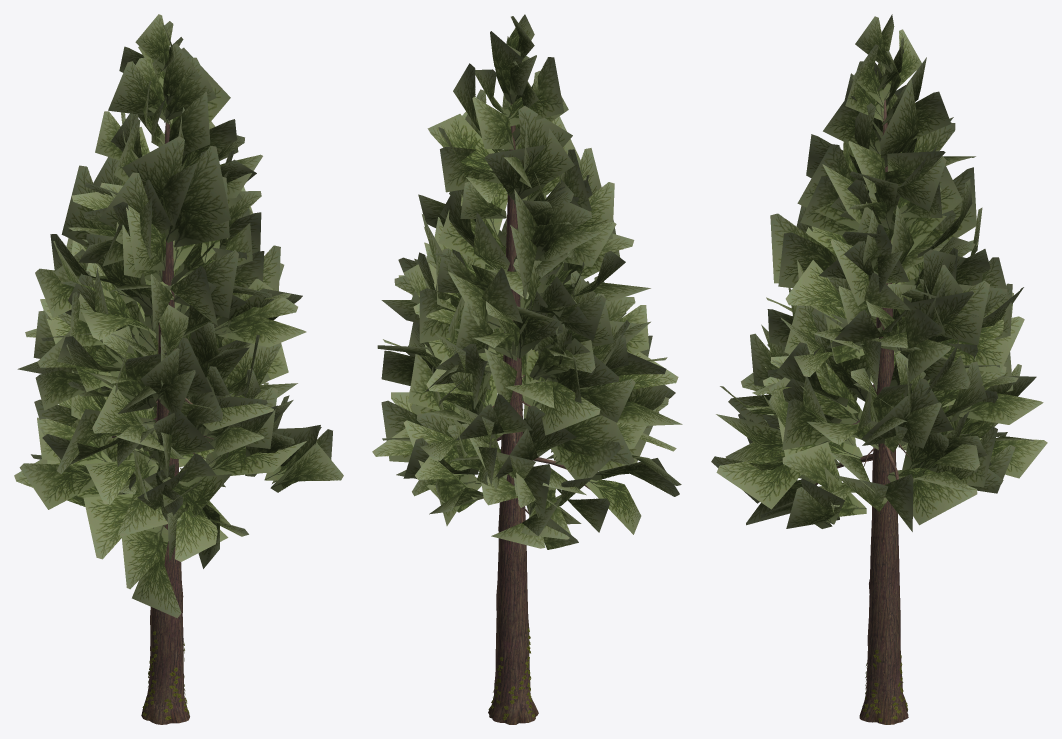
File: BigTree1.fbx
3 renders of one model, left to right at view 1: azimuth 30°, elevation 25°; view 2: azimuth 150°, elevation 25°; view 3: azimuth 270°, elevation 25°, orthographic.
Parts seen in each view (by area): view 1: SM_d_109_Coniferous_01a; view 2: SM_d_109_Coniferous_01a; view 3: SM_d_109_Coniferous_01a.
Part boxes in pixels (x1,y1,x2,y2): SM_d_109_Coniferous_01a: (14,14,343,724); SM_d_109_Coniferous_01a: (372,14,682,724); SM_d_109_Coniferous_01a: (711,14,1047,724).
Size of the model in its own units: 1120 by 2930 by 1280.
